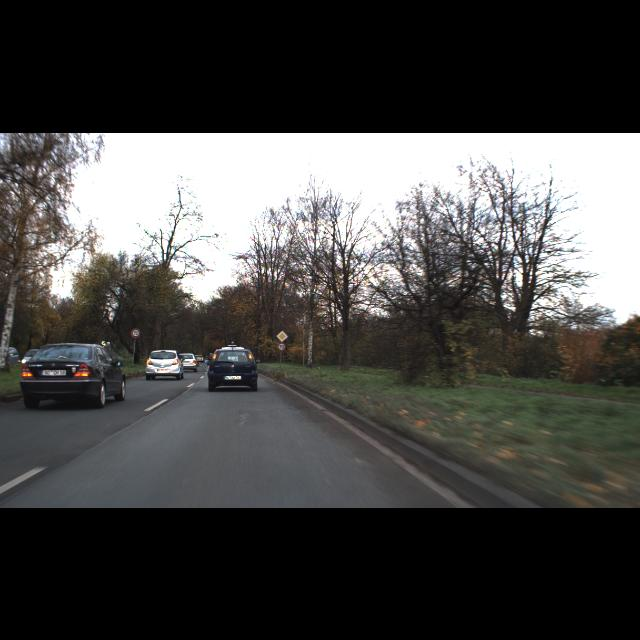other: (276, 329, 288, 341)
prohibitory: (276, 341, 286, 351), (130, 327, 140, 337)
